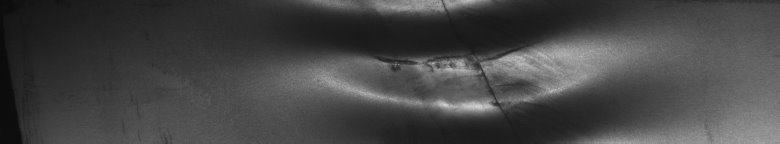ke: (293, 4, 656, 136)
